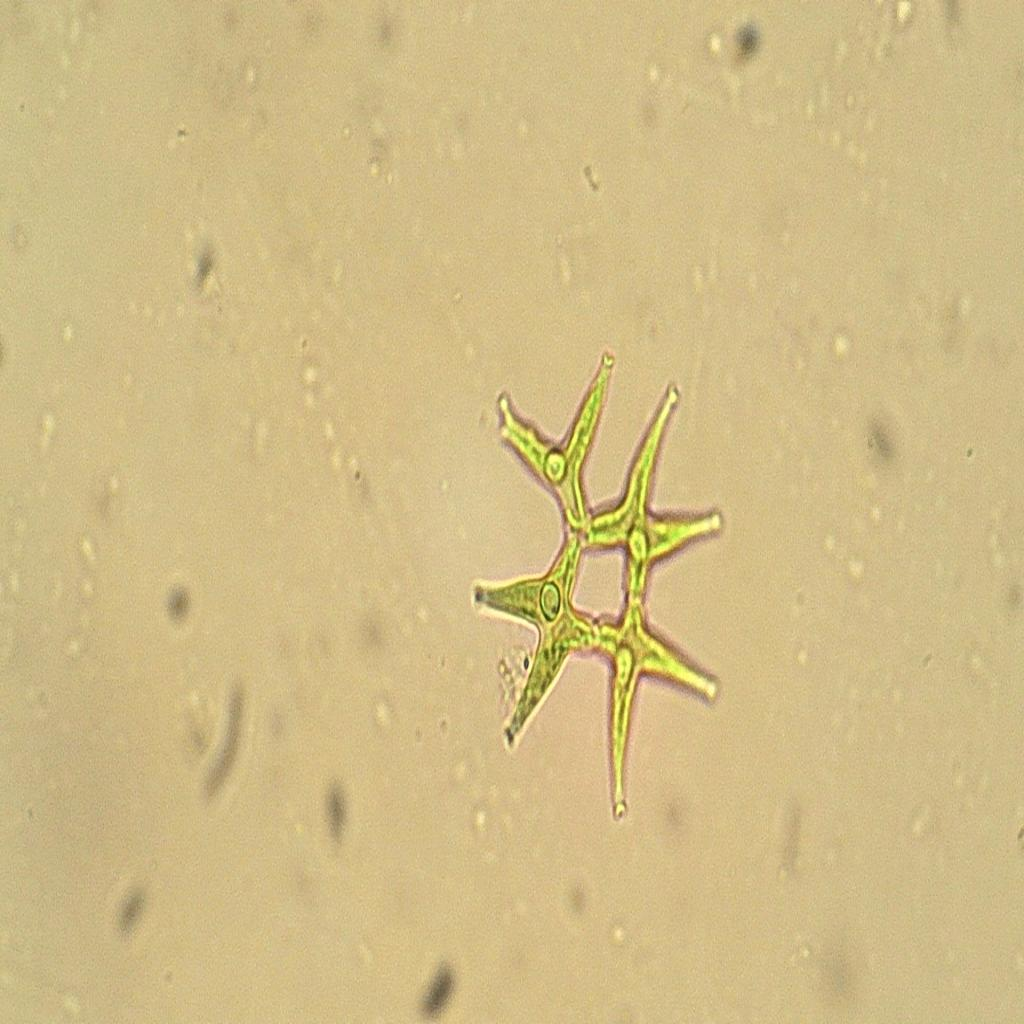Pediastrum_CT: (457, 334, 737, 842)
